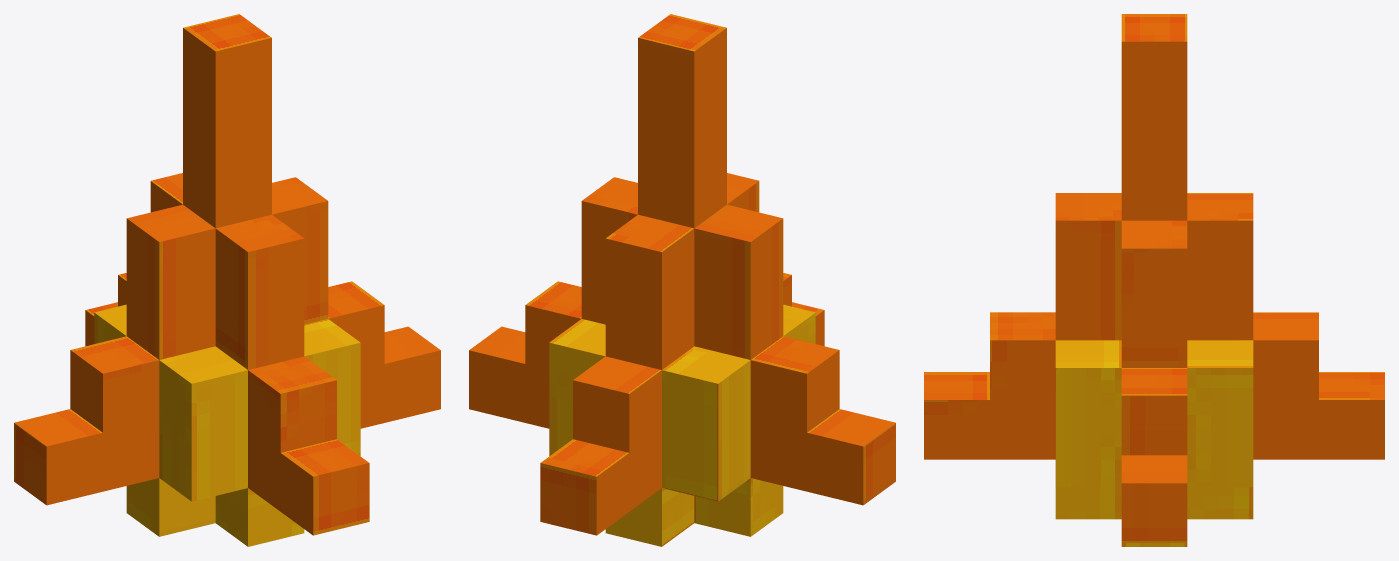
Rendered from GunFire_02.FBX.
The picture shows the model from 3 angles, left to right: view 1: azimuth 30°, elevation 25°; view 2: azimuth 150°, elevation 25°; view 3: azimuth 270°, elevation 25°; orthographic projection.
Parts seen in each view (by area): view 1: GunFire_02; view 2: GunFire_02; view 3: GunFire_02.
Part boxes in pixels (x1,y1,x2,y2): GunFire_02: [14, 14, 440, 546]; GunFire_02: [469, 14, 895, 546]; GunFire_02: [924, 14, 1384, 546].
Size of the model in its own units: 70 by 80 by 70.
